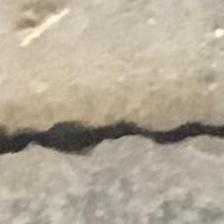Crack: (0, 98, 224, 165)
